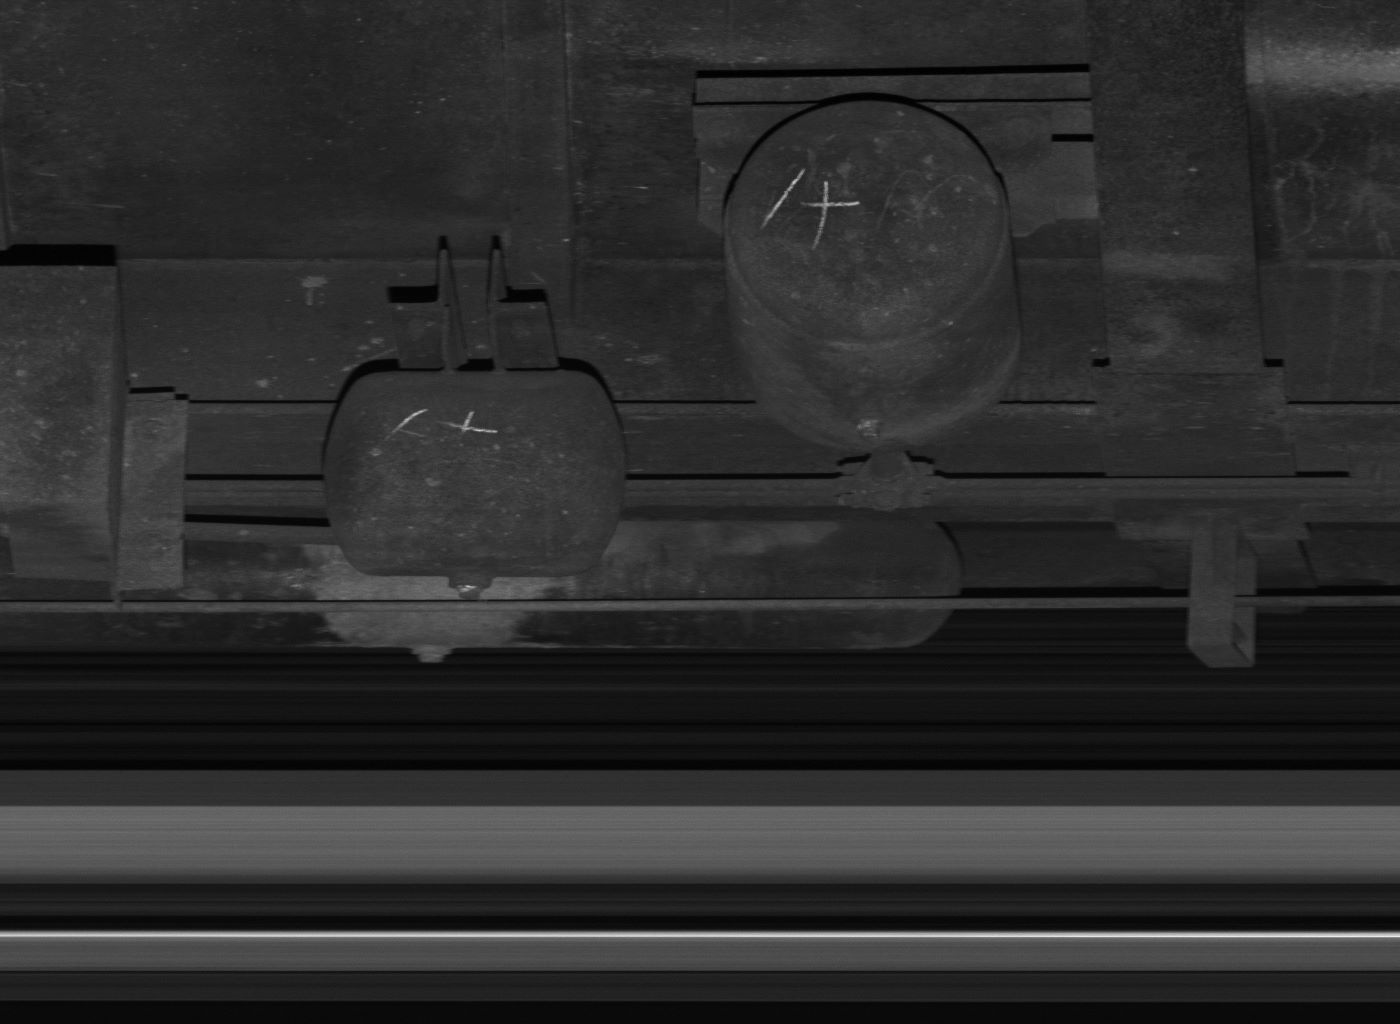normal: (1188, 533, 1262, 669)
